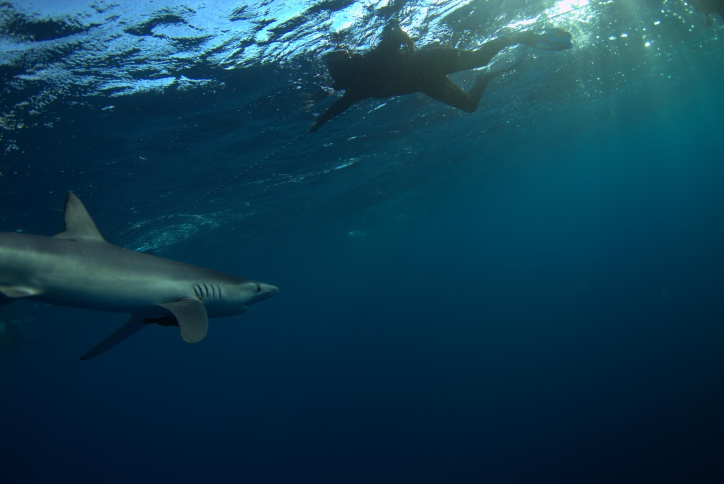Azul: (1, 187, 298, 387)
